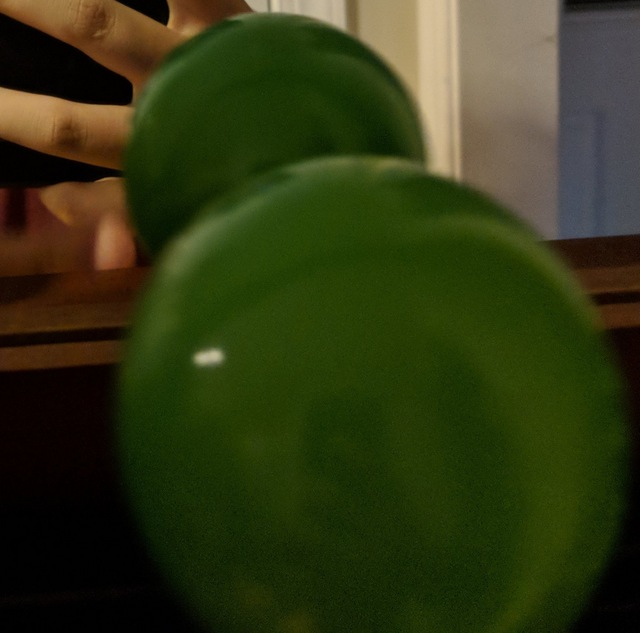Ball: (120, 162, 625, 633)
